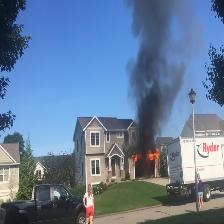smoke: (130, 1, 179, 152)
